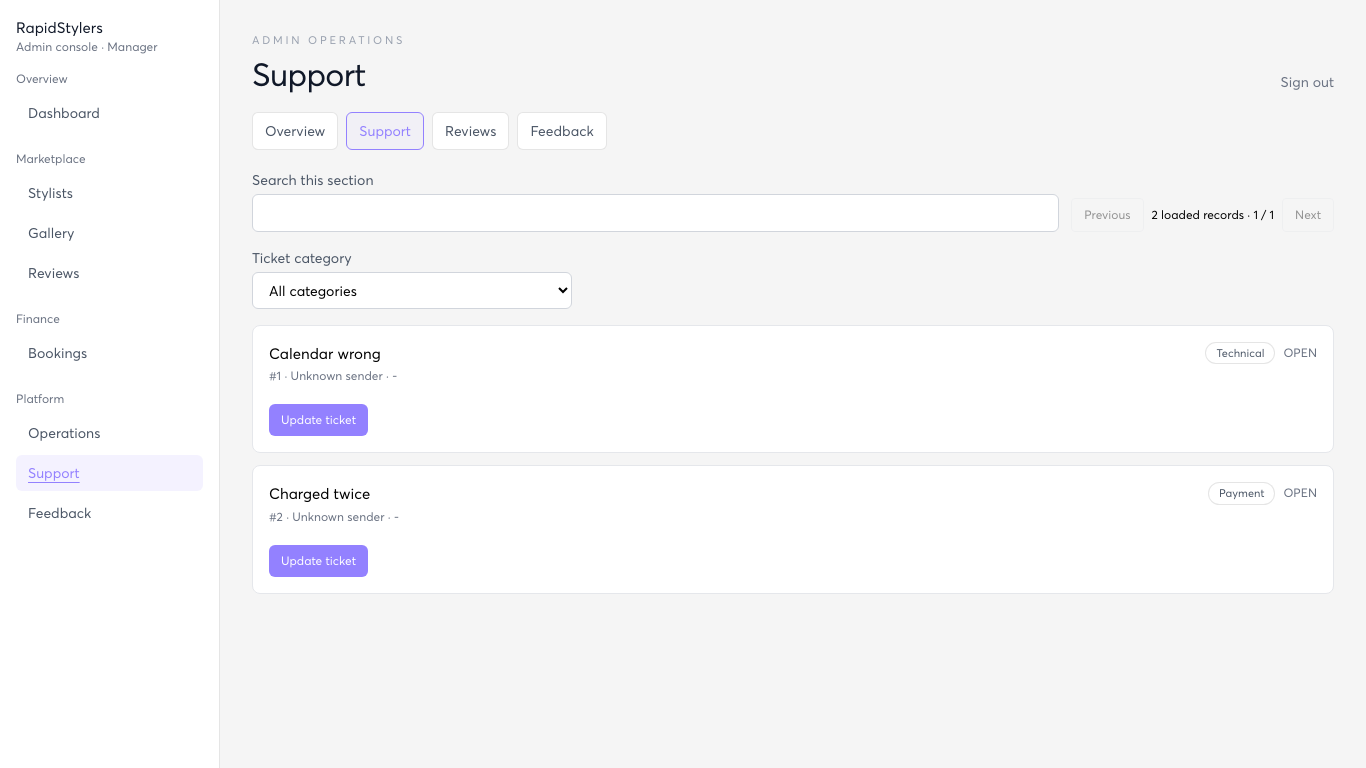
Test: support tickets by category › shows each ticket's category and asks the server for one category when filtered
This screenshot has width=1366, height=768.
Expected: the text "Technical" is shown, [1206, 342, 1275, 364]
Select "Payment" in the dropdown labelled "Ticket category" at (412,290), box [252, 272, 572, 309]
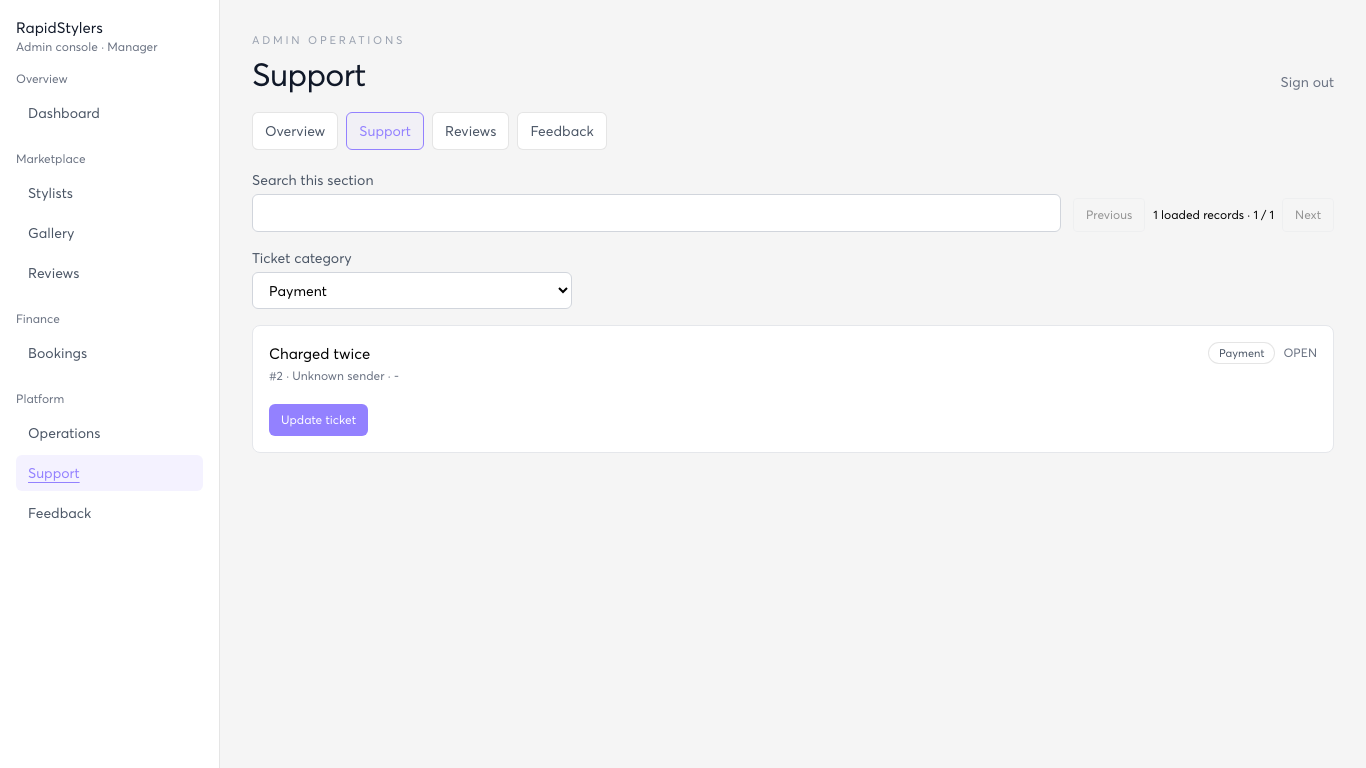
Expected: the text "Charged twice" is shown, [269, 342, 370, 364]
Expected: the text "Calendar wrong" is gone
